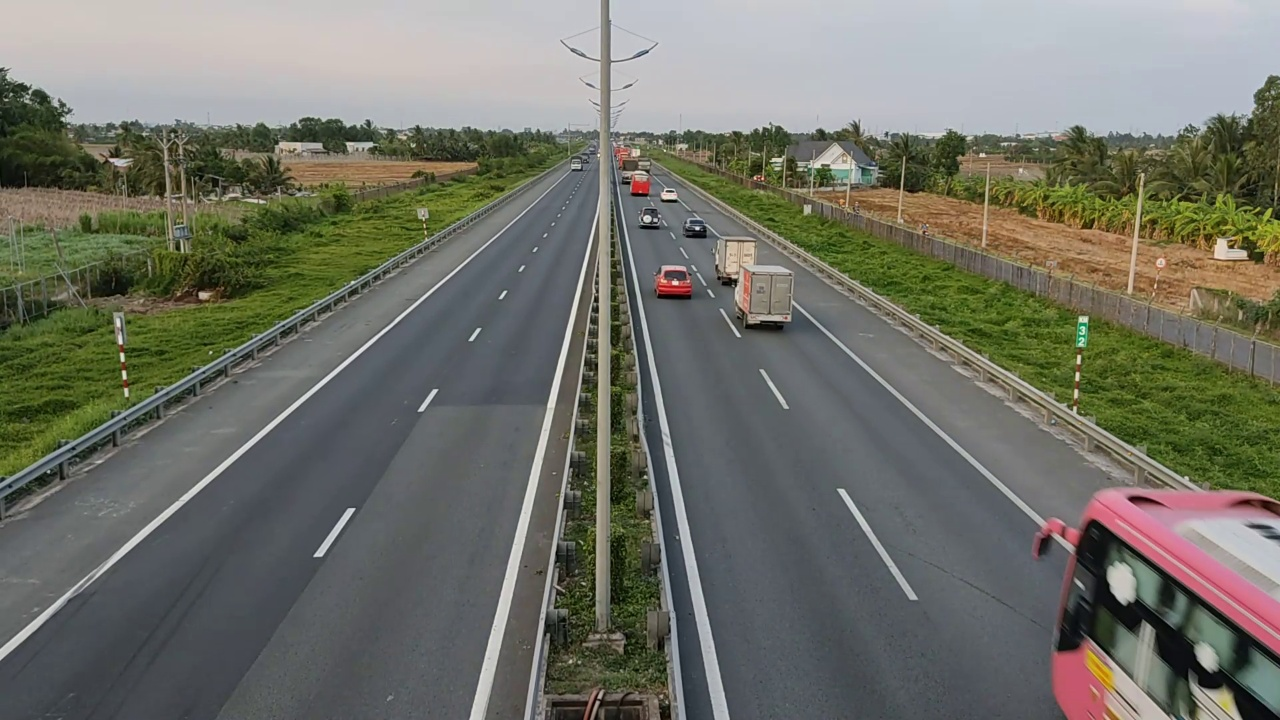bus: (1031, 486, 1279, 714)
car: (653, 265, 693, 298), (638, 205, 664, 228), (681, 217, 707, 239)
truck: (733, 264, 797, 334), (713, 236, 757, 285)
